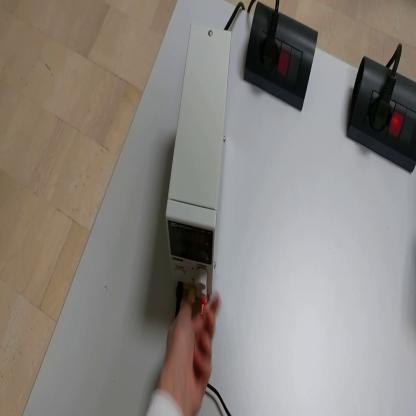hand: (161, 293, 220, 409)
power supply: (165, 21, 233, 299)
socket: (347, 53, 416, 177), (244, 4, 320, 115)
